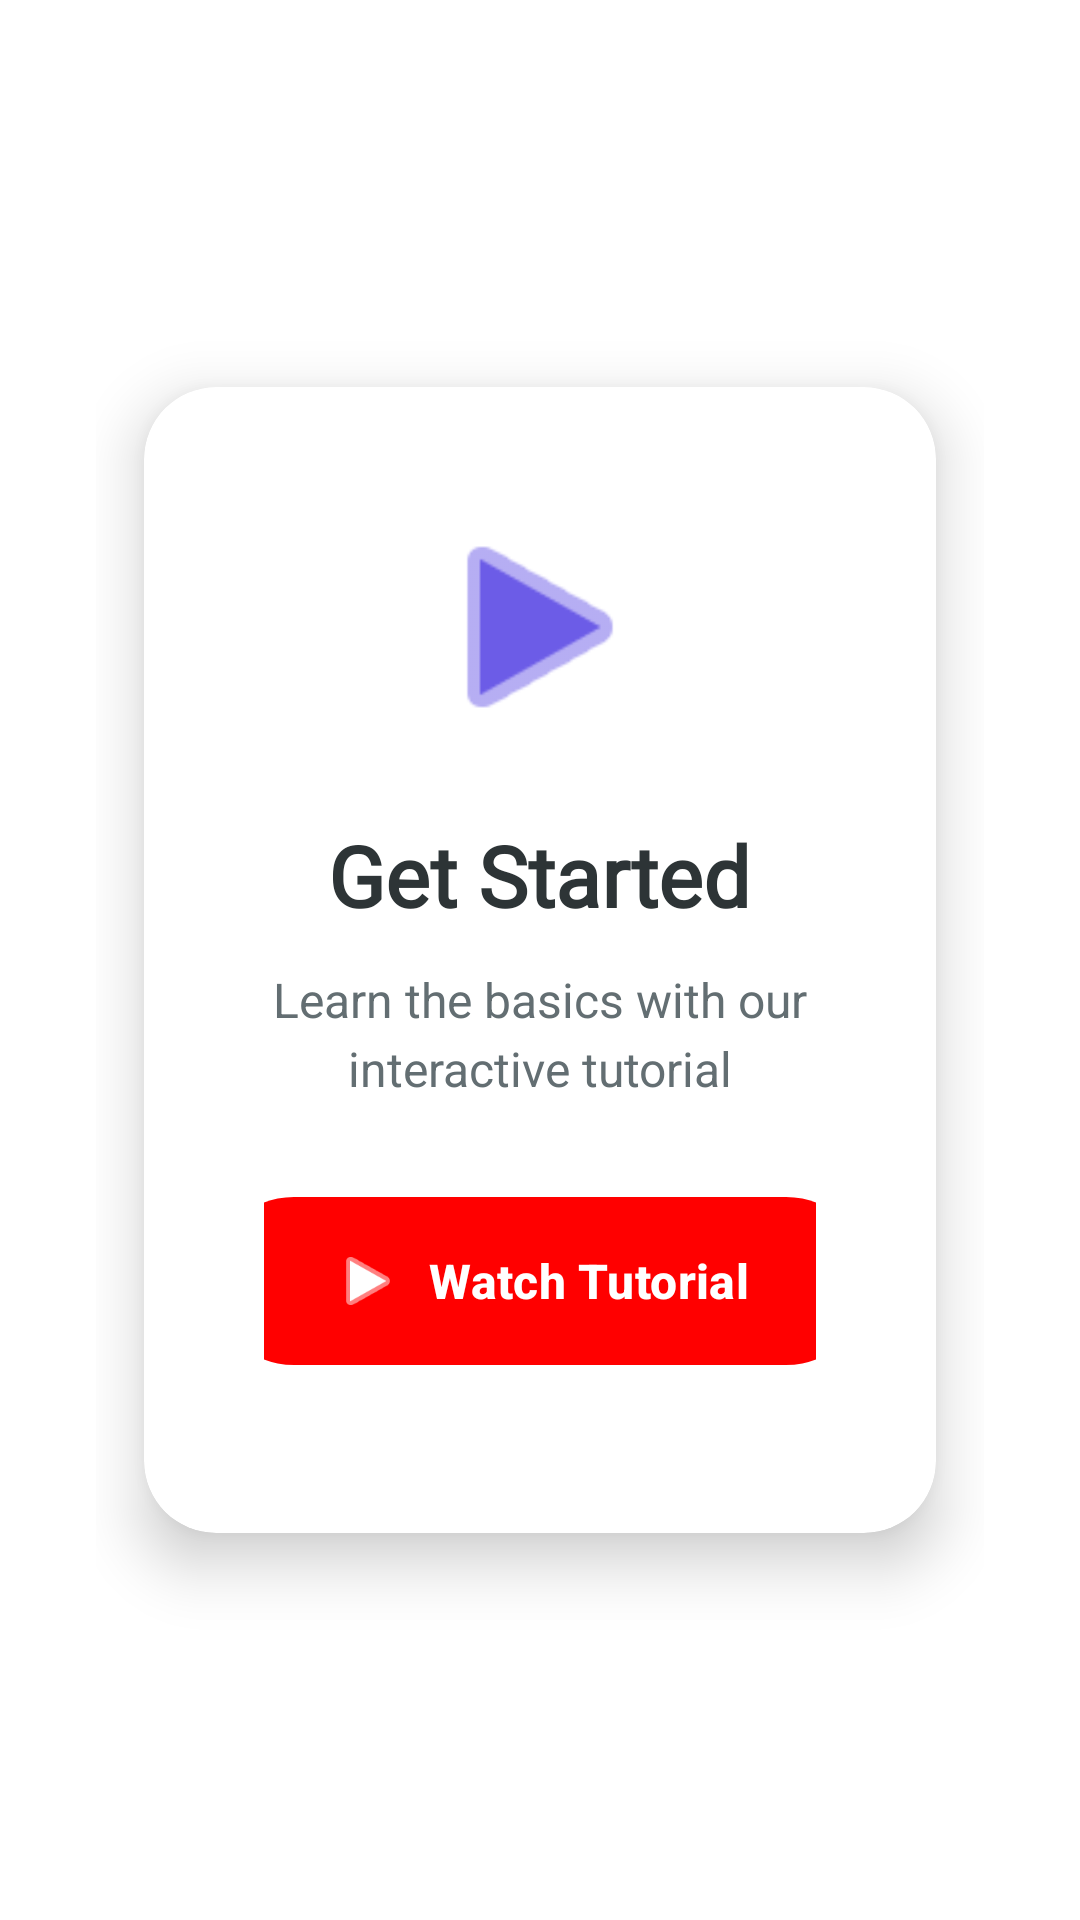

Where to tap for icons on this 1080w x 1920h app screen, as [x,y]:
play: [540,627]
